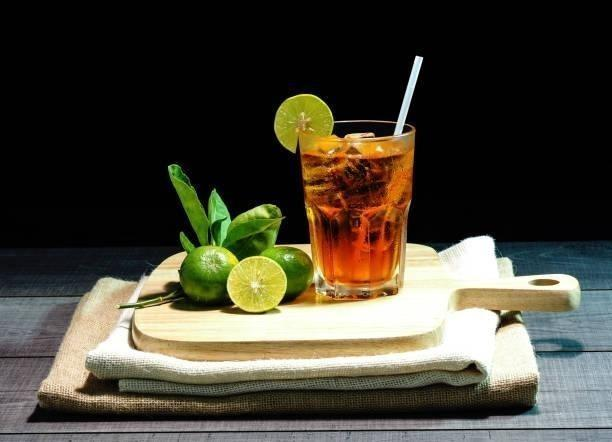glass-normal: (296, 118, 417, 301)
